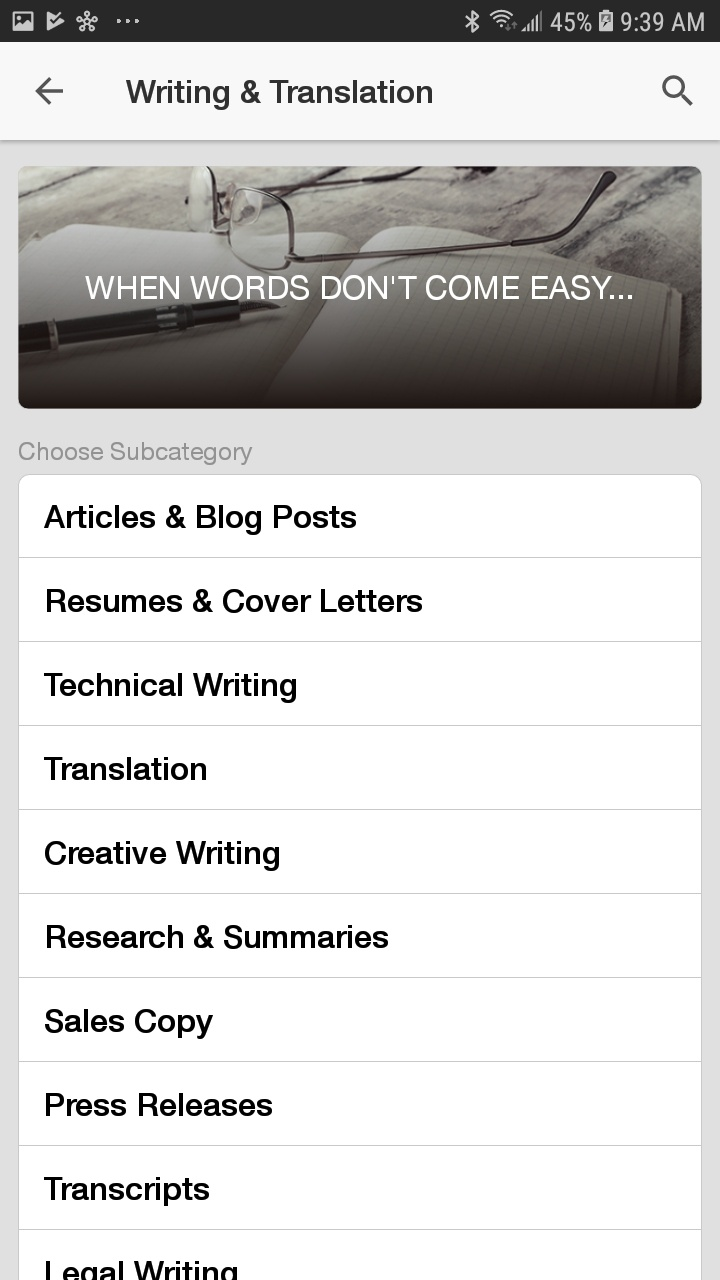Icon: (662, 75, 693, 107), (35, 77, 64, 106)
Image: (19, 166, 702, 410)
Text: (85, 275, 633, 302), (44, 505, 357, 536), (126, 80, 433, 111), (47, 589, 423, 614), (47, 924, 389, 949), (44, 673, 297, 704), (45, 840, 280, 872), (46, 1092, 273, 1117), (19, 442, 253, 466), (45, 1008, 214, 1040), (44, 1176, 211, 1207), (44, 756, 207, 781), (46, 1260, 238, 1280)
UpperTaskBar: (1, 1, 720, 43)
